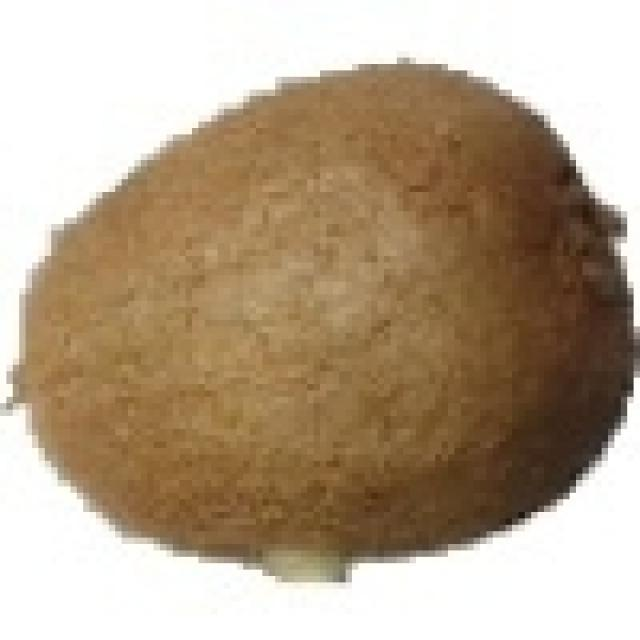kiwi: (13, 58, 621, 563)
